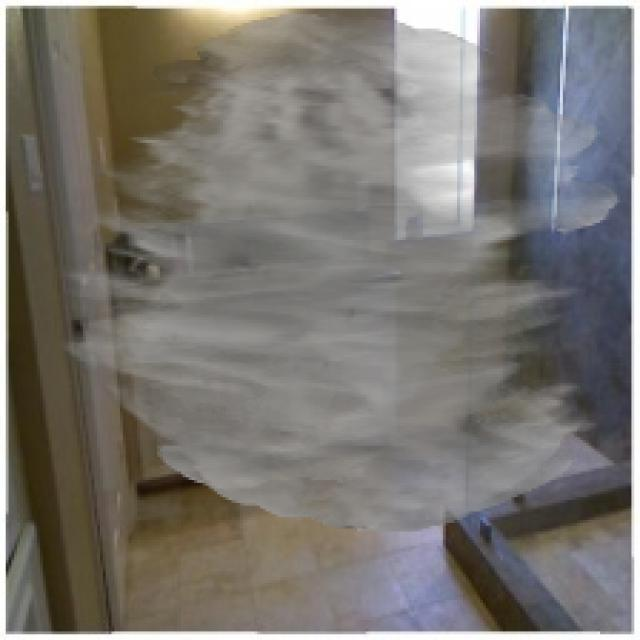Smoke: (54, 11, 620, 532)
